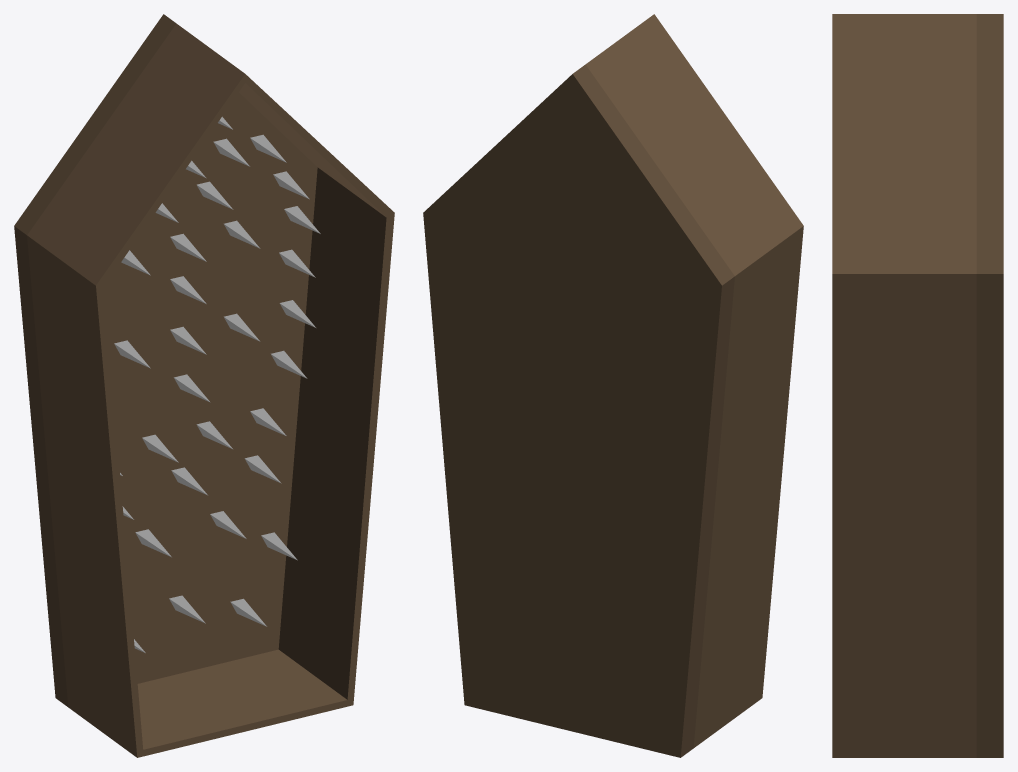
File: Iron Maiden.glb
The picture shows the model from 3 angles, left to right: view 1: azimuth 30°, elevation 25°; view 2: azimuth 150°, elevation 25°; view 3: azimuth 270°, elevation 25°; orthographic projection. The views are drawn at different scales.
Visible parts, largest first — view 1: torture_device_007; view 2: torture_device_007; view 3: torture_device_007.
Part boxes in pixels (<box>): torture_device_007: <box>14,14,394,757</box>; torture_device_007: <box>423,14,803,757</box>; torture_device_007: <box>832,14,1003,757</box>.
Bounding box in the file's own units: 0.9748 × 2.05 × 0.462.
